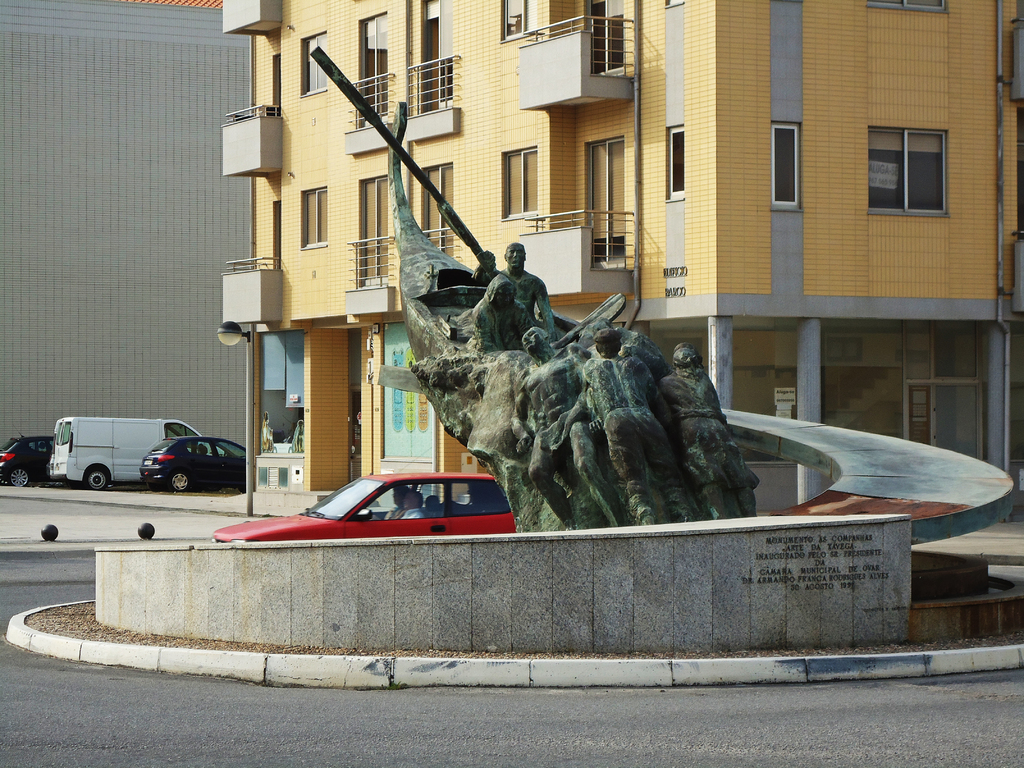Car: (213, 471, 519, 546), (144, 431, 248, 493), (2, 436, 53, 487)
